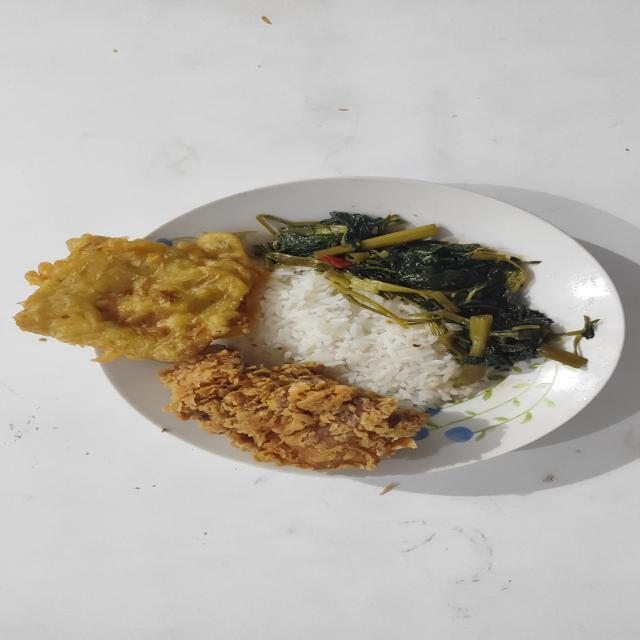nasi_putih: (236, 266, 490, 412)
tumis_kangkung: (254, 211, 598, 387)
